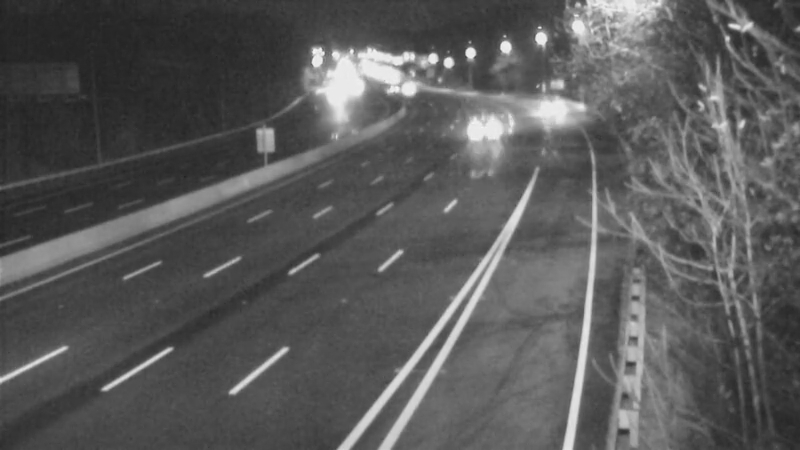vehicle: (518, 77, 568, 127), (453, 113, 503, 163)
